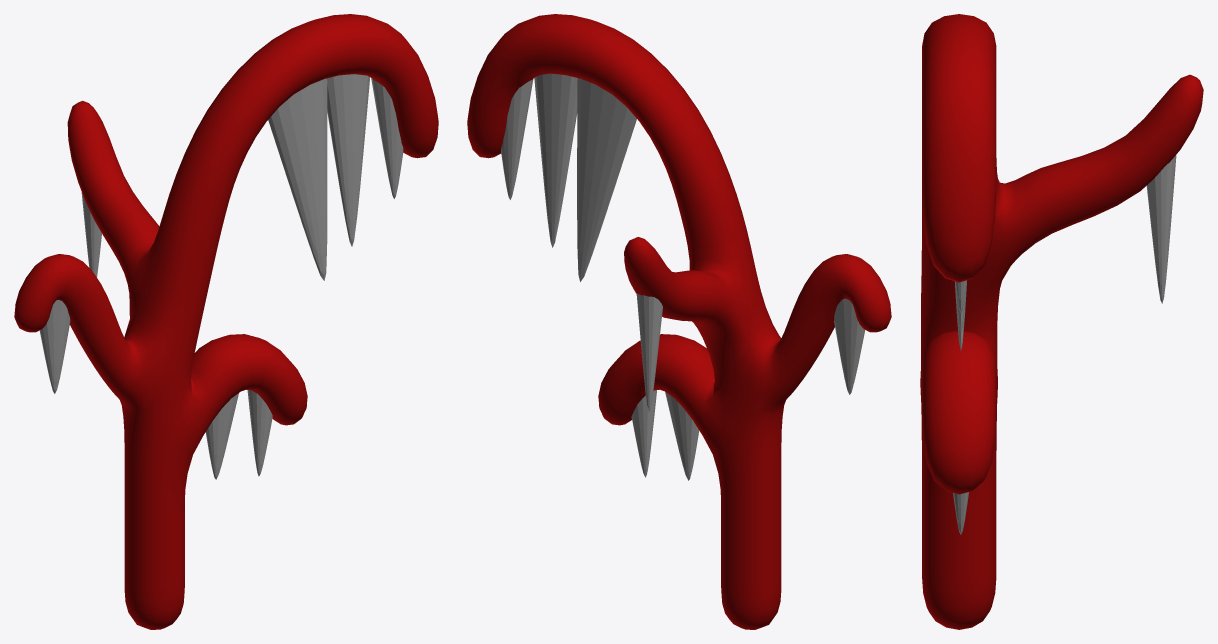
File: mars-tree-04.obj
The picture shows the model from 3 angles, left to right: view 1: azimuth 30°, elevation 25°; view 2: azimuth 150°, elevation 25°; view 3: azimuth 270°, elevation 25°; orthographic projection. The views are drawn at different scales.
Visible parts, largest first — view 1: Tree.004_Cube.009; view 2: Tree.004_Cube.009; view 3: Tree.004_Cube.009.
Boxes of the visible parts, x1=… form: Tree.004_Cube.009: x1=14, y1=14, x2=438, y2=629; Tree.004_Cube.009: x1=467, y1=14, x2=891, y2=629; Tree.004_Cube.009: x1=920, y1=14, x2=1203, y2=629.
Bounding box in the file's own units: 1.51 × 1.95 × 0.7137.
